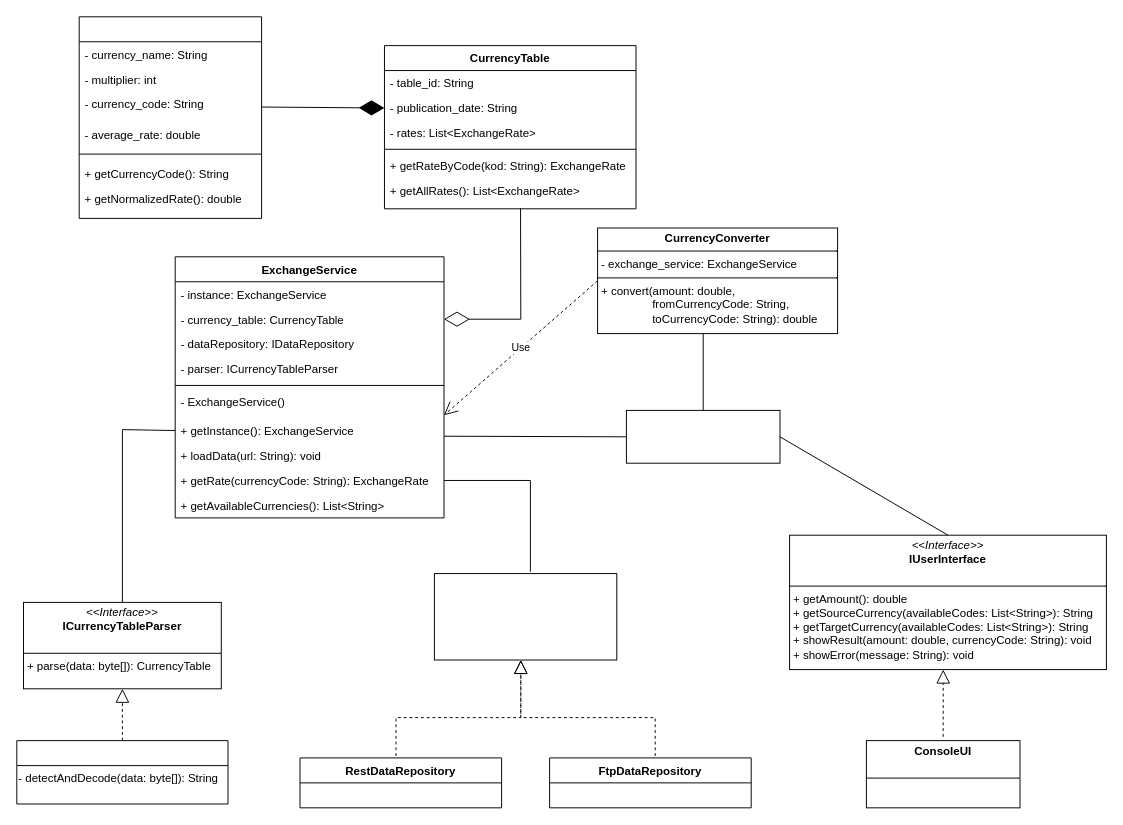
The diagram is 1123 pixels wide and 825 high, and some of its shapes have lost their labels. Here are the shapes that lost their labels. From the top down, the box of each, then its label:
(78, 16, 262, 218): ExchangeRate
(625, 409, 780, 463): App + run(): void
(433, 573, 617, 660): <<Interface>> IDataRepository + get(sourceURL: String): byte[]
(16, 740, 228, 804): XmlCurrencyTableParser
